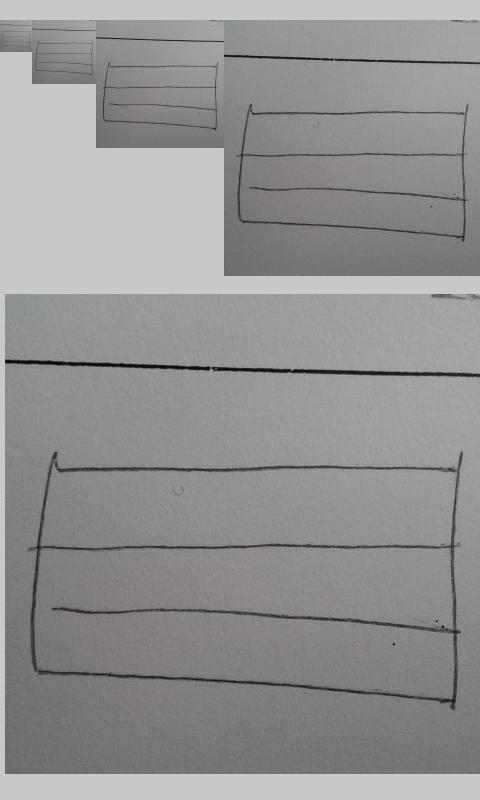list_view: (27, 451, 466, 706), (235, 105, 471, 242), (102, 63, 219, 130), (34, 40, 94, 76), (1, 30, 31, 49)
